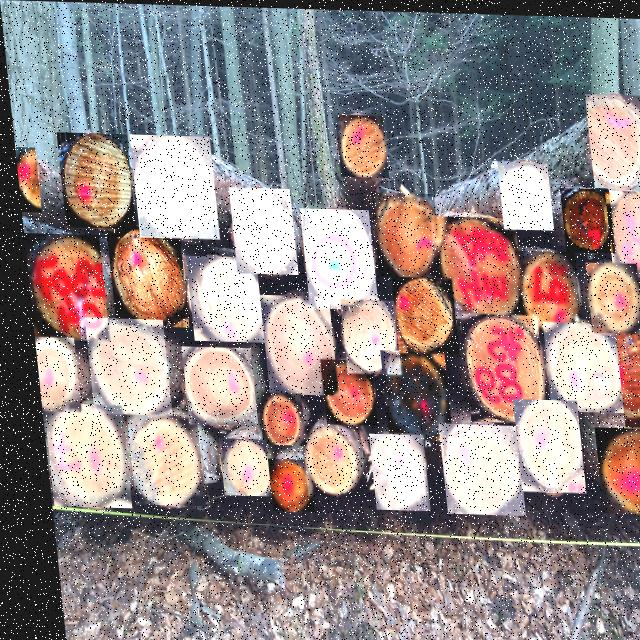wood-log: (454, 311, 539, 421), (127, 134, 215, 240), (429, 214, 519, 317), (19, 233, 103, 341), (35, 403, 121, 508), (78, 317, 163, 415), (101, 225, 182, 327), (430, 421, 515, 513), (254, 293, 331, 394), (295, 207, 372, 308), (54, 132, 131, 229), (117, 413, 195, 506), (536, 319, 615, 410), (504, 397, 576, 492), (180, 255, 257, 341), (373, 348, 444, 439), (367, 190, 437, 276), (174, 345, 249, 425), (225, 186, 293, 273), (584, 91, 640, 190), (510, 247, 576, 329), (386, 275, 452, 352), (586, 424, 640, 512), (360, 432, 420, 509), (292, 425, 356, 496), (334, 298, 394, 373), (606, 298, 640, 425), (580, 259, 637, 330), (494, 159, 550, 227), (313, 358, 369, 424), (556, 185, 610, 250), (28, 337, 73, 412), (333, 113, 386, 176), (601, 189, 640, 274), (209, 437, 261, 495), (249, 391, 297, 444), (258, 457, 304, 510), (12, 147, 37, 212)
